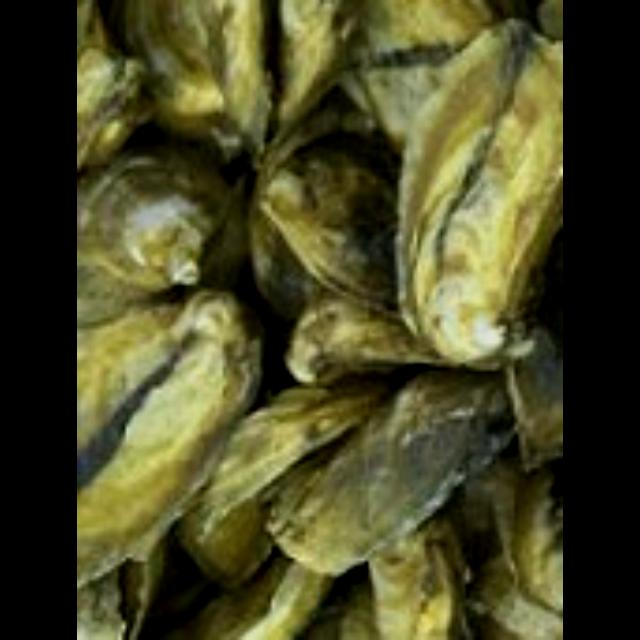Oyster-Closed: (397, 23, 560, 370), (261, 370, 511, 576), (184, 379, 402, 586), (263, 100, 406, 319), (77, 143, 230, 321), (347, 0, 514, 159), (444, 459, 560, 636), (290, 295, 485, 382), (148, 549, 334, 636), (105, 0, 225, 131), (264, 0, 351, 158), (251, 181, 324, 355), (77, 0, 149, 174), (373, 518, 475, 636), (206, 0, 277, 150), (77, 547, 163, 636), (511, 330, 560, 466), (303, 563, 380, 636)
Oyster-Open: (77, 290, 260, 589)
